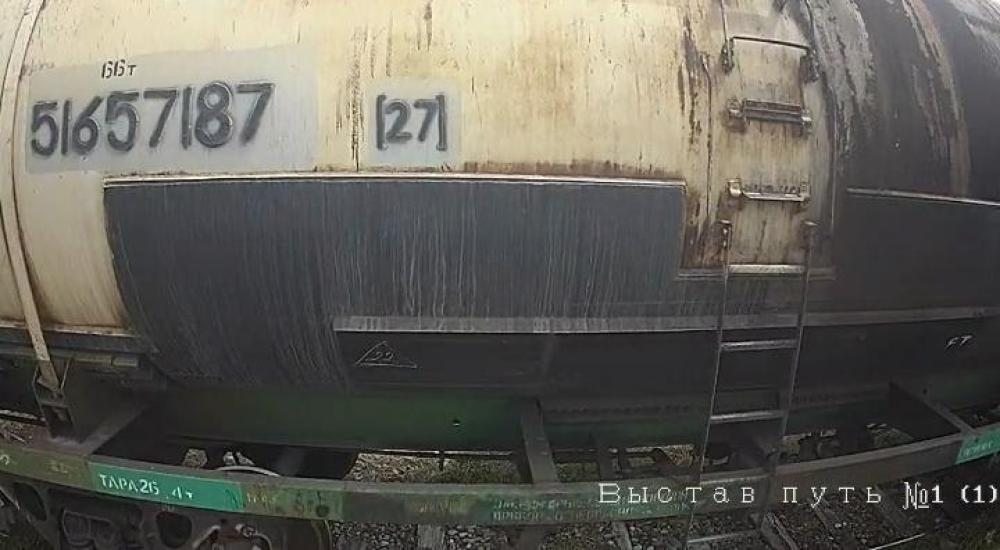Wagon-number: (25, 76, 278, 160)
